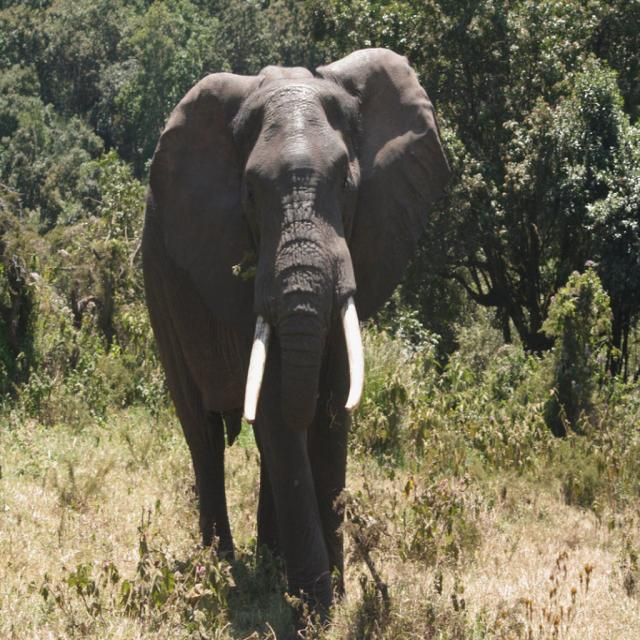elephant: (140, 46, 450, 623)
